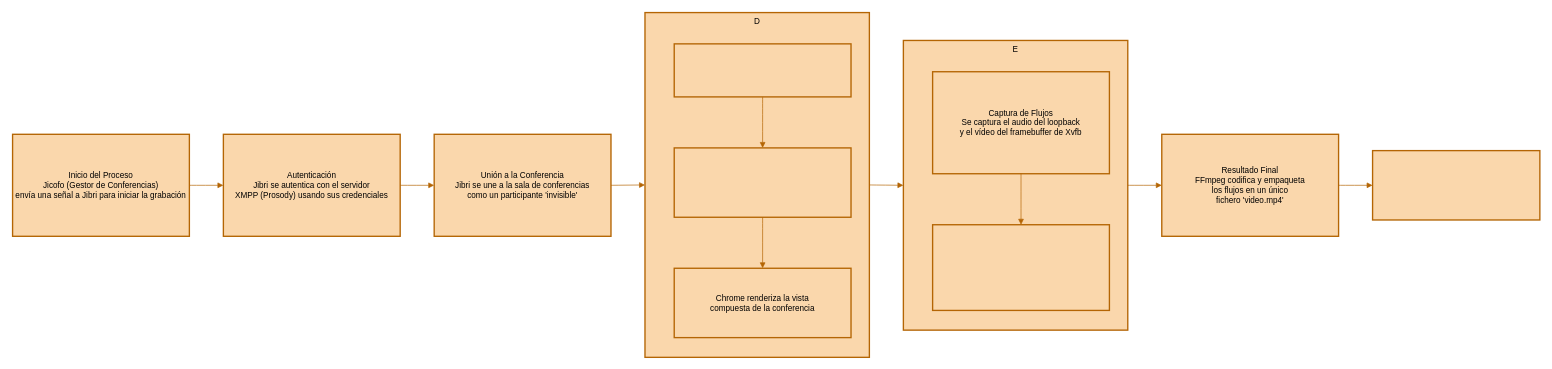
Some shapes in this 1552 by 369 pixel diagram are drawn without their labels. The centre of each missing label's shape, as x and y in pixels:
"Almacenamiento El fichero .mp4 se guarda en el volumen persistente" goes at (1456,185).
"Codificación con FFmpeg Los flujos de audio y vídeo en bruto se envían a FFmpeg" goes at (1021,267).
"Inicia Entorno Gráfico Virtual (Xvfb)" goes at (762,70).
"Lanza Navegador Chrome Headless dentro del escritorio virtual" goes at (762,182).
